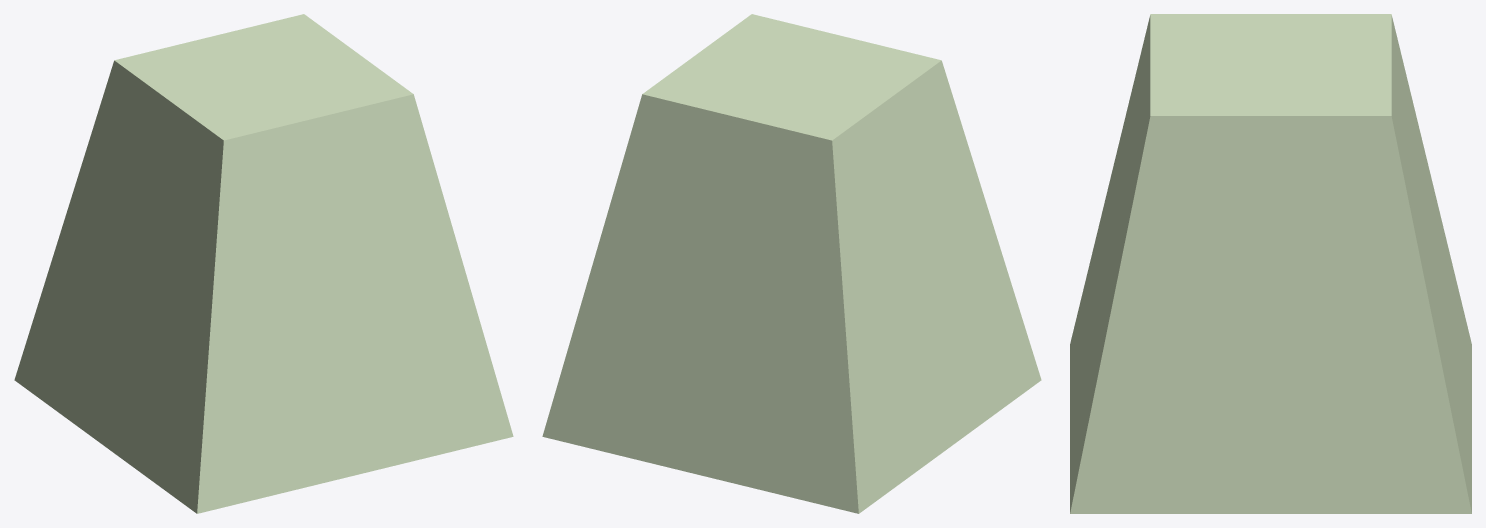
Rendered from thruster.glb.
3 renders of one model, left to right at view 1: azimuth 30°, elevation 25°; view 2: azimuth 150°, elevation 25°; view 3: azimuth 270°, elevation 25°, orthographic. The views are drawn at different scales.
Visible parts, largest first — view 1: Thruster; view 2: Thruster; view 3: Thruster.
Boxes of the visible parts, <box> form: Thruster: <box>14,14,513,513</box>; Thruster: <box>542,14,1041,513</box>; Thruster: <box>1070,14,1471,513</box>.
Size of the model in its own units: 1 by 1 by 1.
